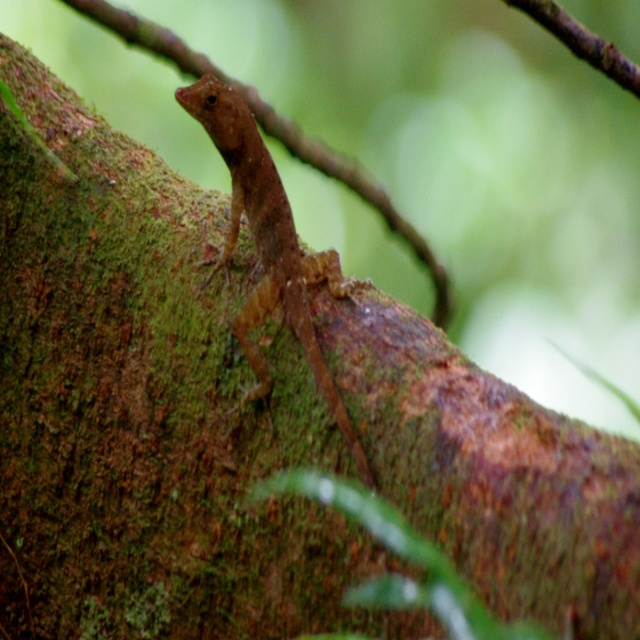Lizard: (181, 59, 336, 458)
